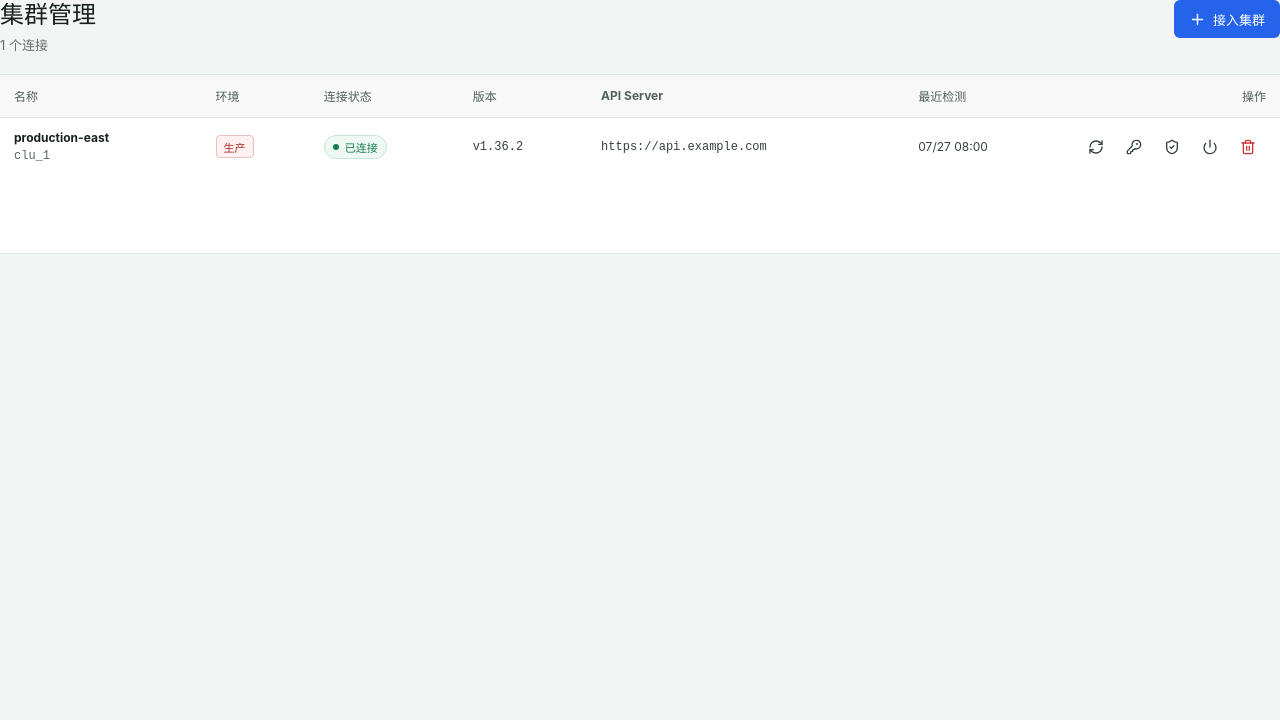
it: ClustersPage › clears rejected candidate secrets and keeps the rotation dialog open
Click the button named "轮换 production-east 凭据": (1134, 146) [1116,128,1152,164]
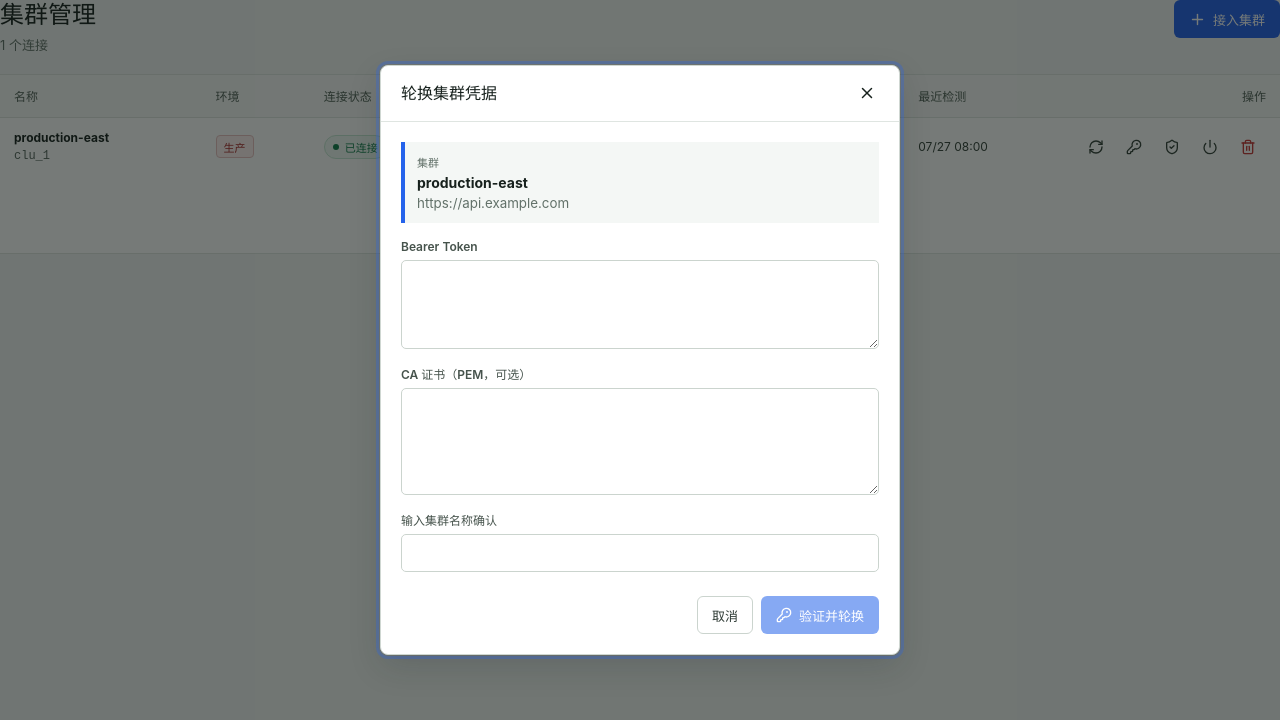
In the text box labelled "Bearer Token": (640, 304) [401,260,879,349], type "rejected-token"
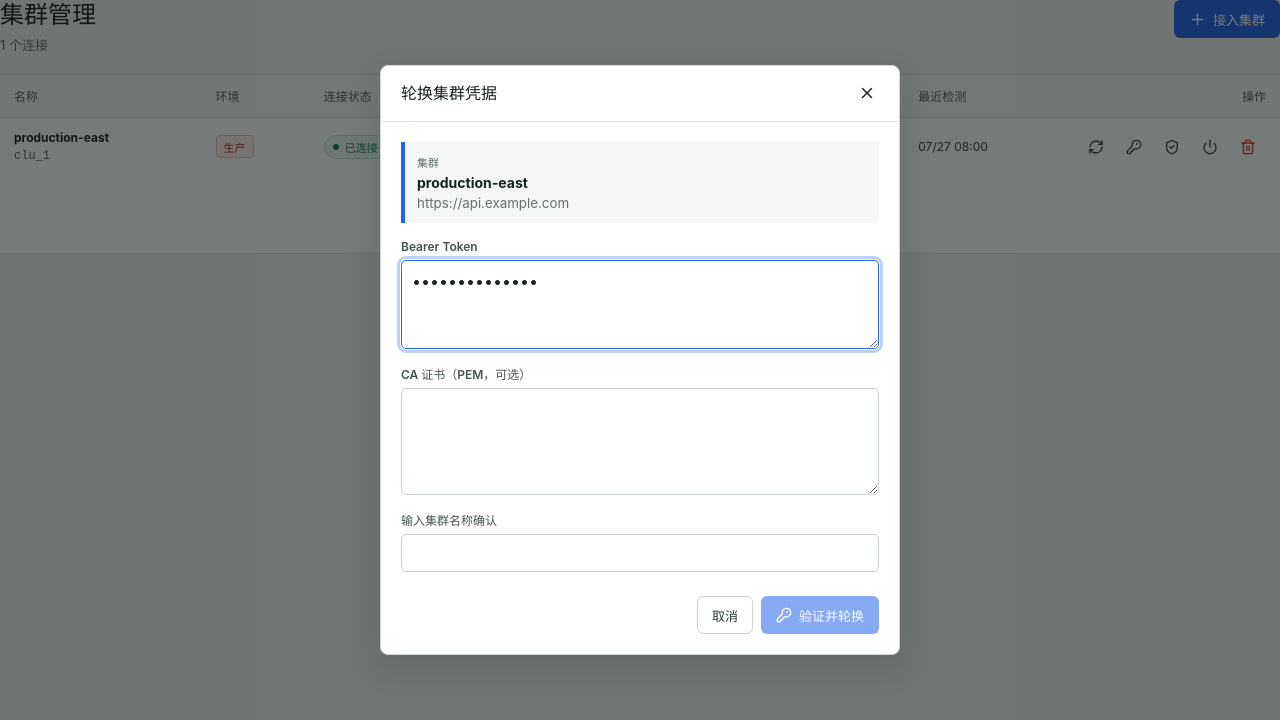
In the text box labelled "CA 证书（PEM，可选）": (640, 442) [401,388,879,495], type "rejected-ca"
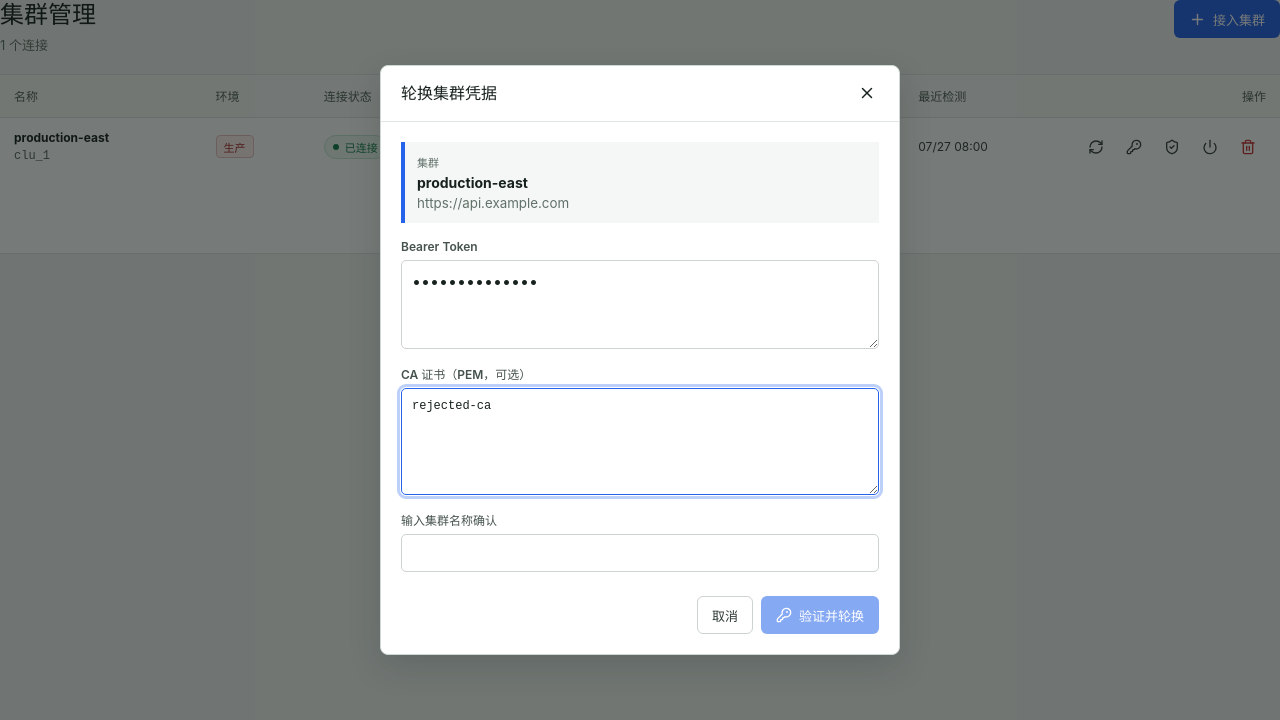
In the field labelled "输入集群名称确认": (640, 553) [401,534,879,572], type "production-east"
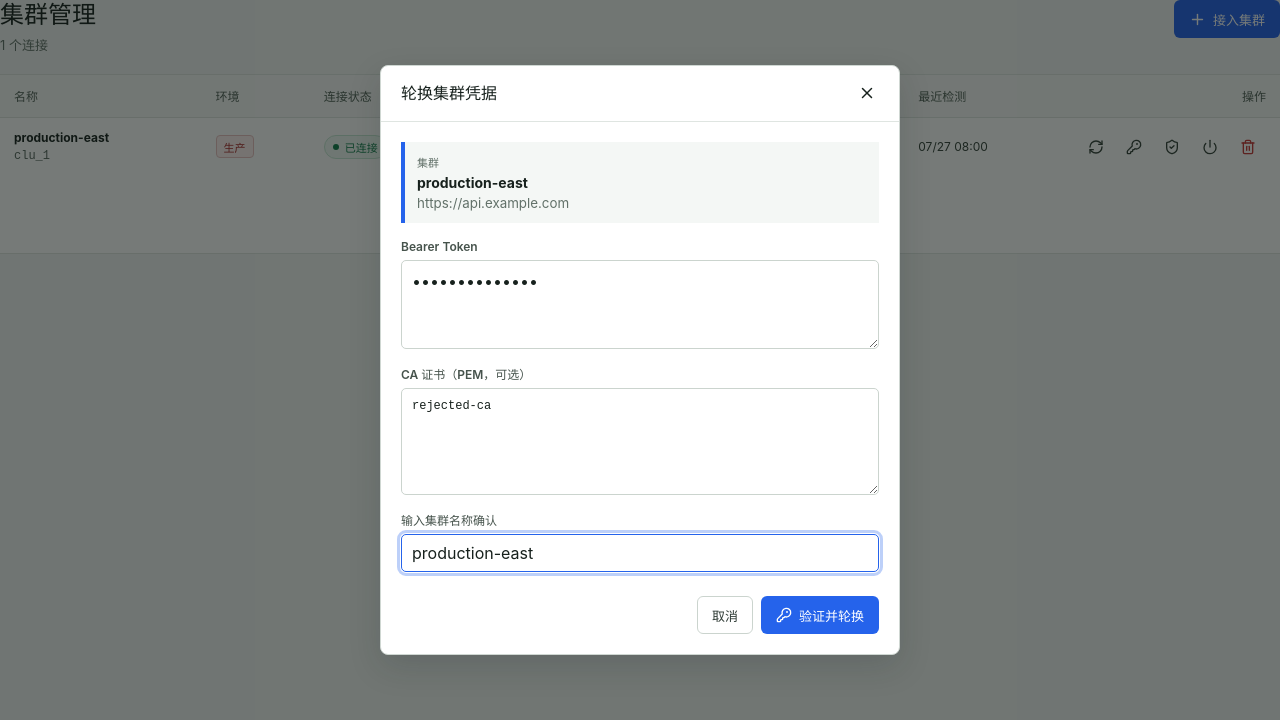
Click the button "验证并轮换": (820, 615) [761,596,879,634]
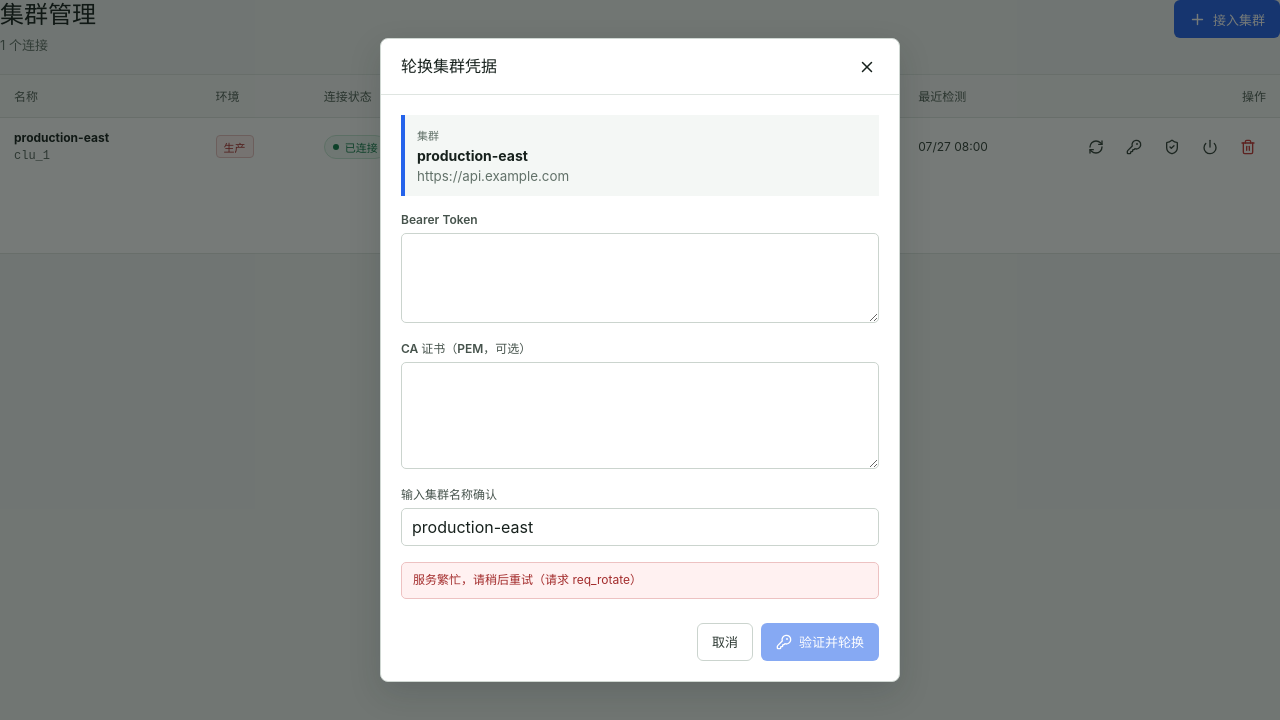
Now the message shows "服务繁忙，请稍后重试", box [413,572,642,587]
Now the text box labelled "Bearer Token" is empty, box [401,233,879,323]
Now the text box labelled "CA 证书（PEM，可选）" is empty, box [401,362,879,469]
